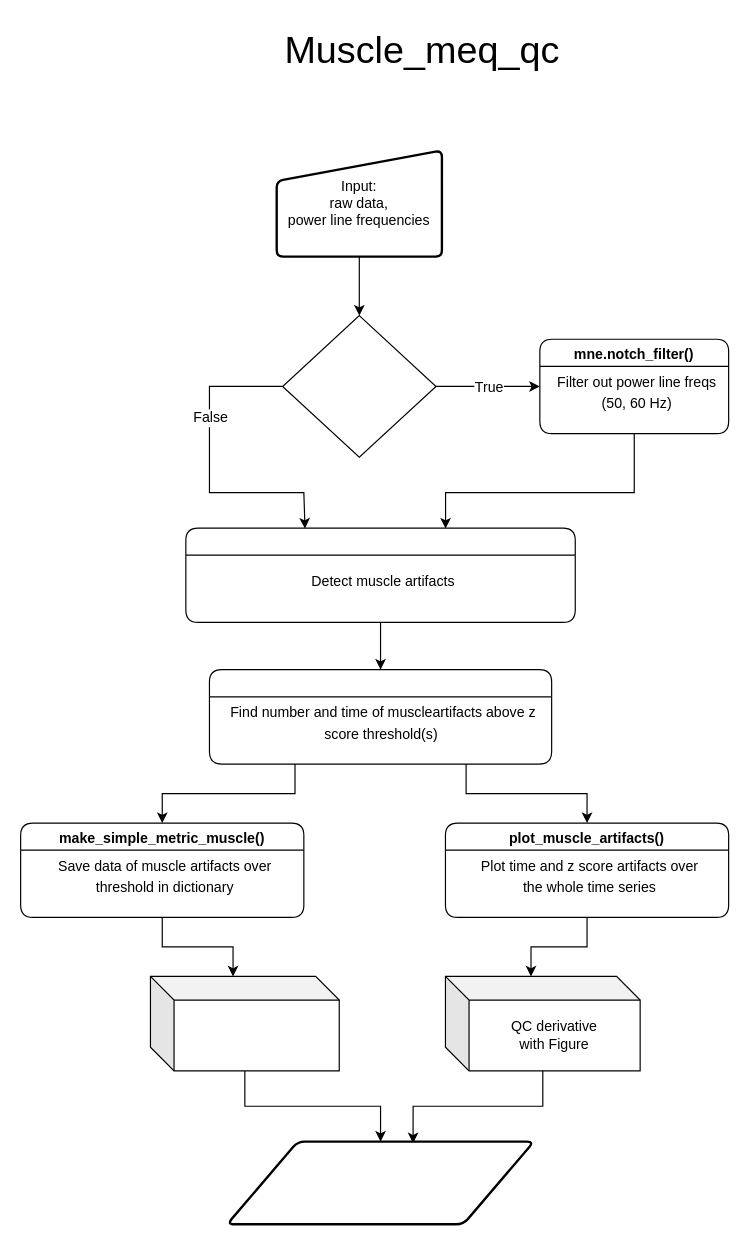
This 749x1245 diagram has some shape labels left out. The centre of each missing label's shape, as x and y in pixels:
"find_peaks()" belongs at point 380,716.
"if power line noise present" belongs at point 358,385.
"mne. preprocessing. annotate_muscle_zscore()" belongs at point 380,574.
"Returns: QC derivative, Simple metric" belongs at point 380,1182.
"Simple metric as dictionary" belongs at point 244,1023.
